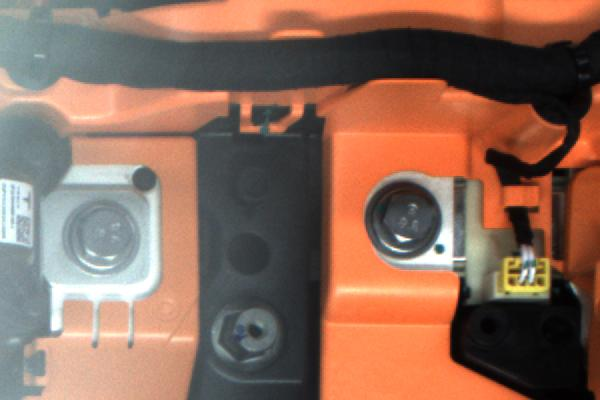nut_b: (358, 174, 453, 262), (55, 199, 143, 278)
